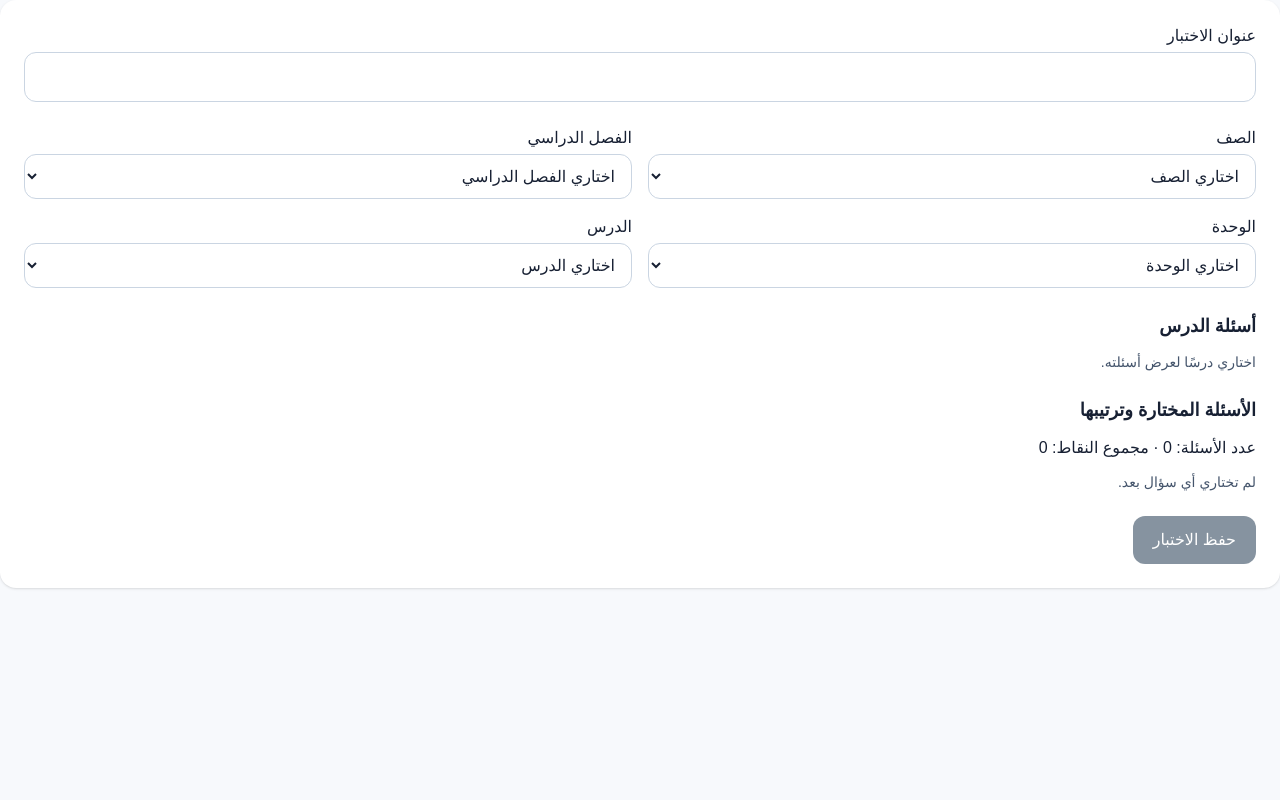
Test: assessment creation form › shows the required empty lesson message
Select "الصف السادس" in the dropdown labelled "الصف" at (952, 176), box [648,154,1256,199]
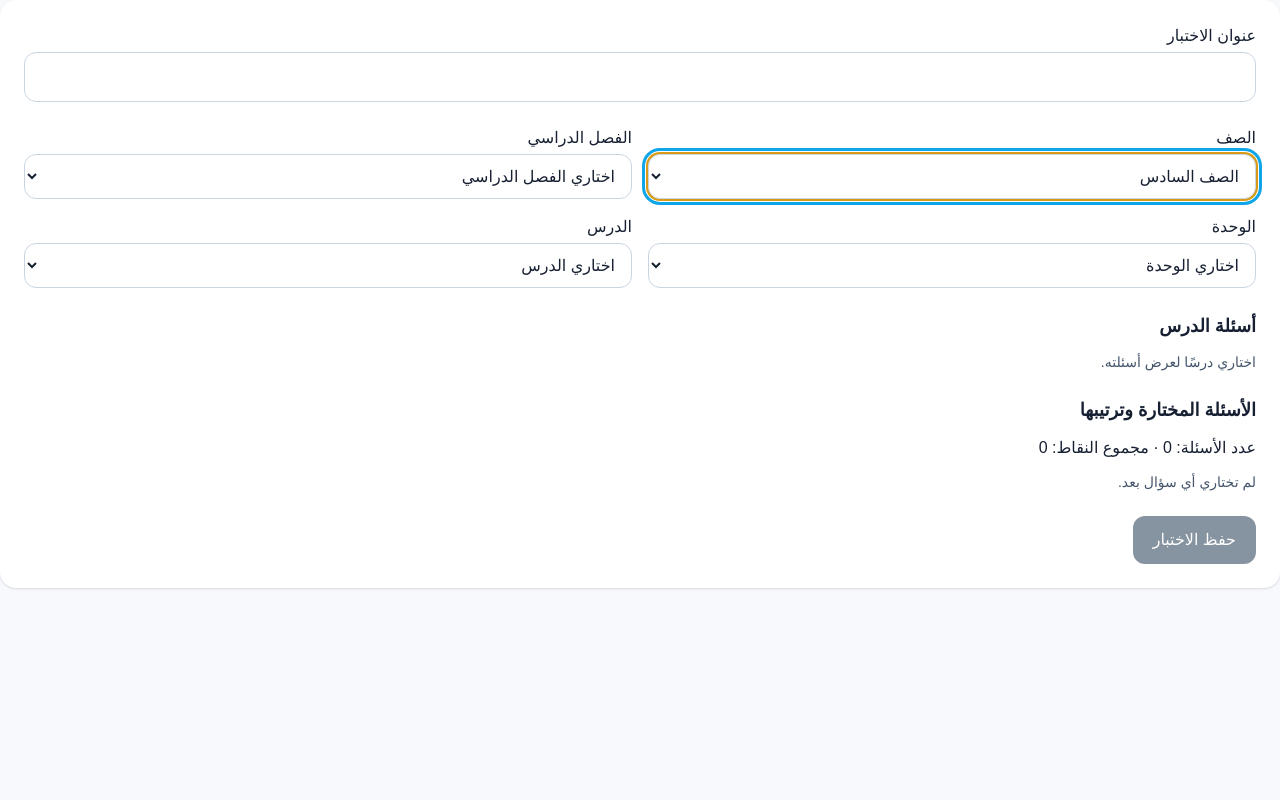
Select "الفصل الدراسي الأول ( 2026-2027 )" in the dropdown labelled "الفصل الدراسي" at (328, 176), box [24,154,632,199]
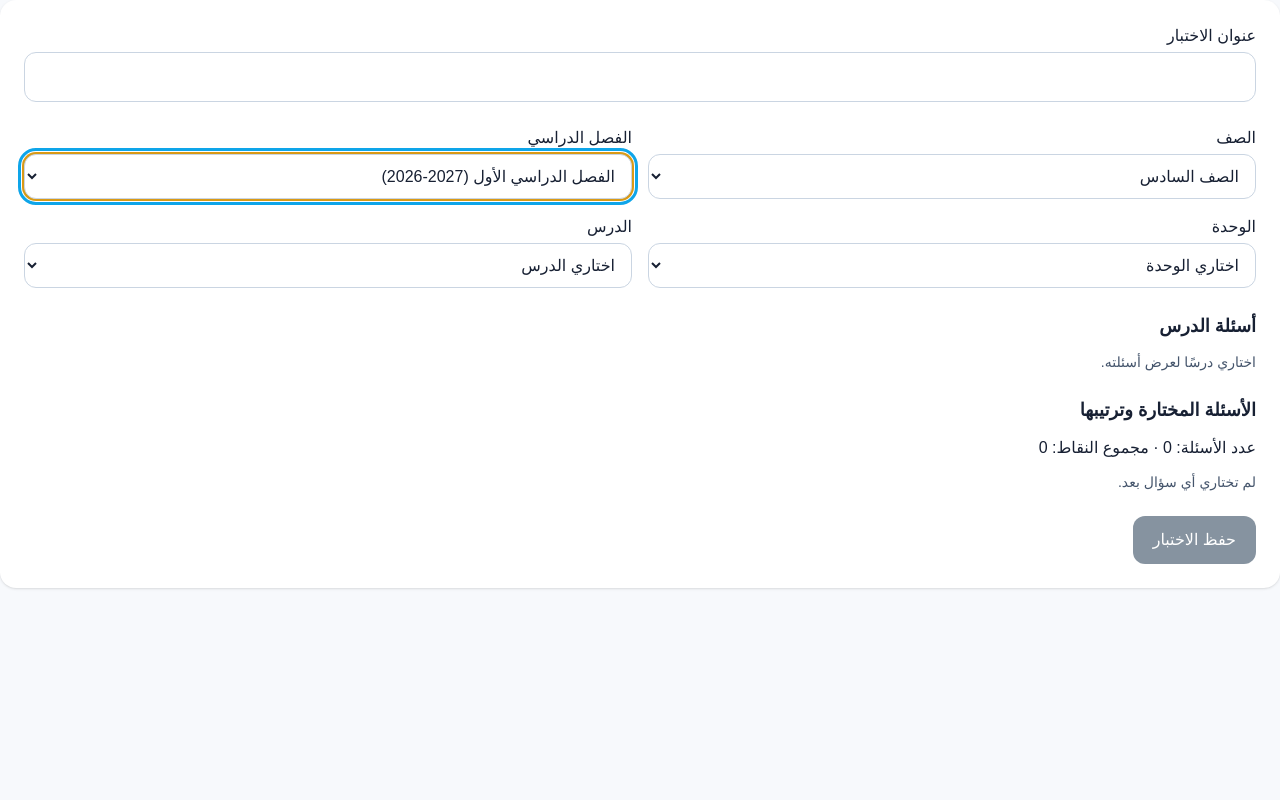
Select "من الخلية إلى الجسم" in the dropdown labelled "الوحدة" at (952, 266), box [648,243,1256,288]
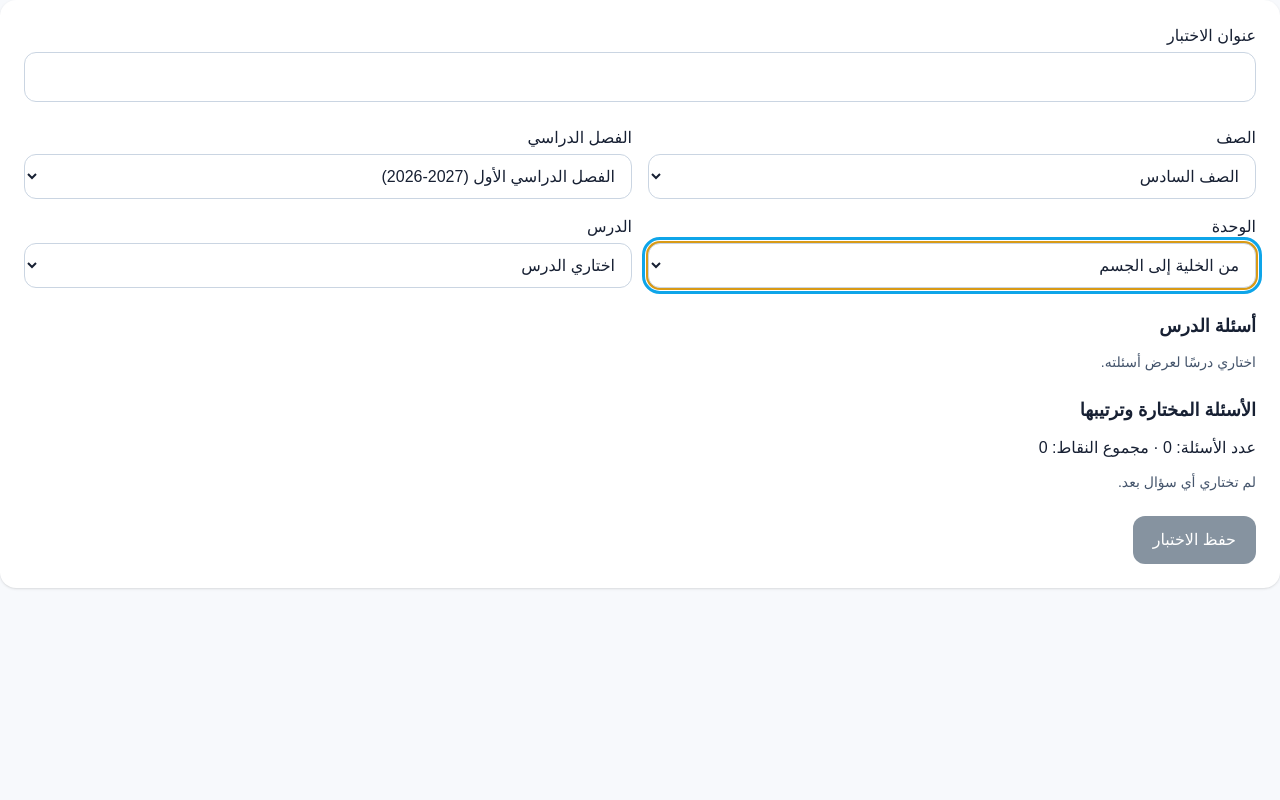
Select "الخلية" in the dropdown labelled "الدرس" at (328, 266), box [24,243,632,288]
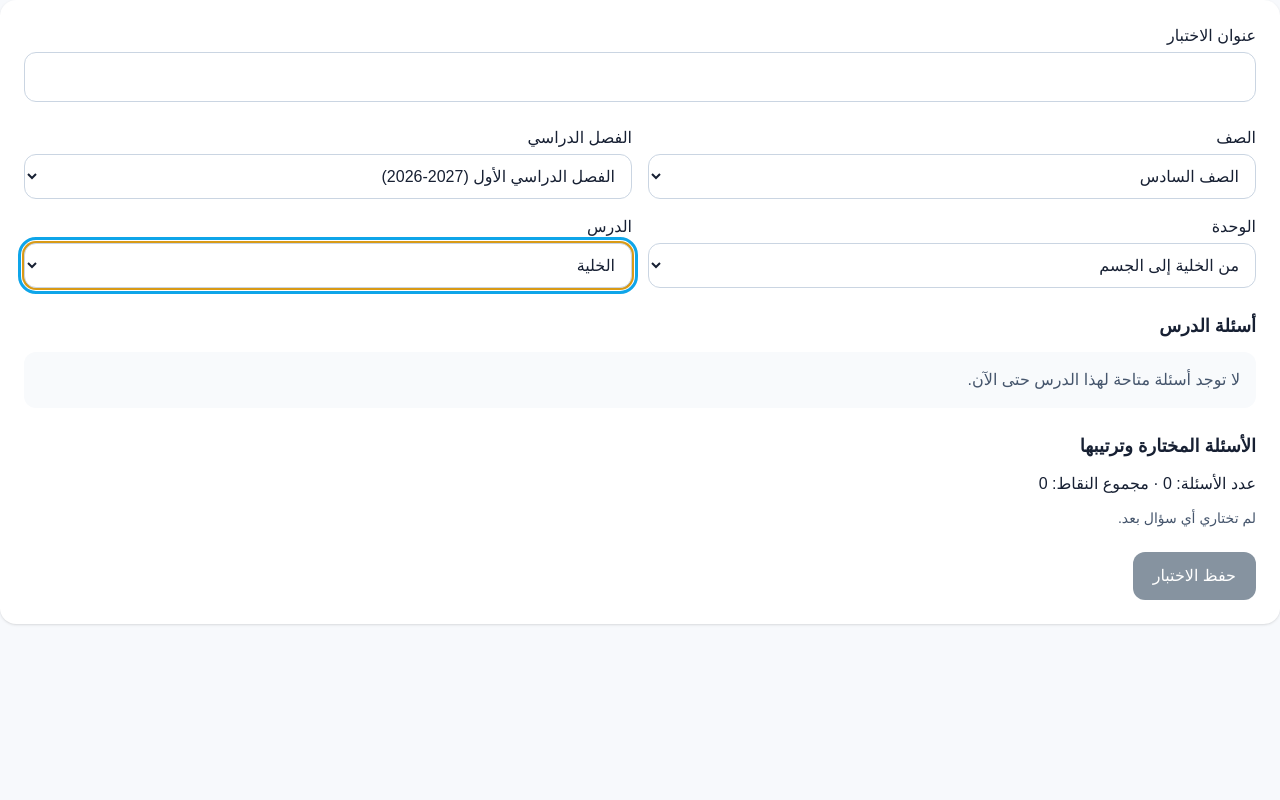
Check: the text "لا توجد أسئلة متاحة لهذا الدرس حتى الآن." is shown, box [24,352,1256,408]
